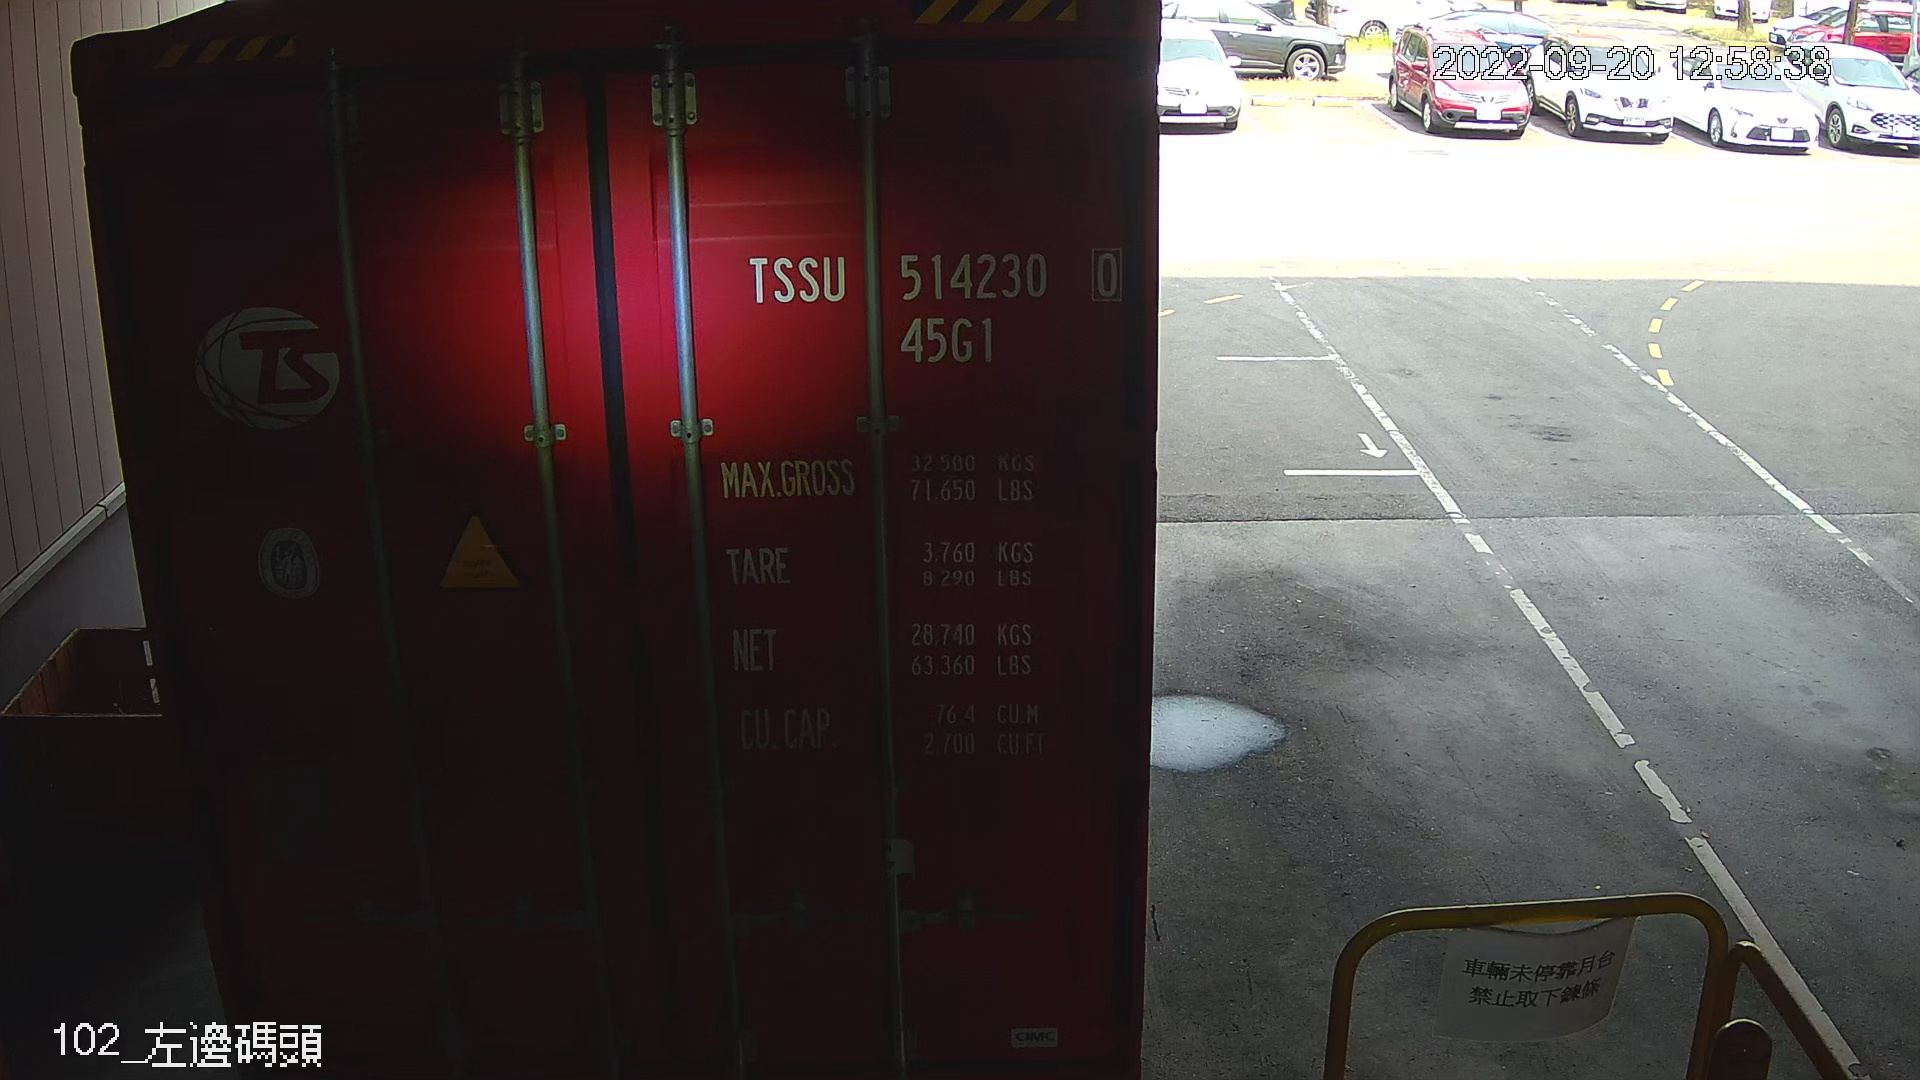container: (728, 227, 1135, 371)
